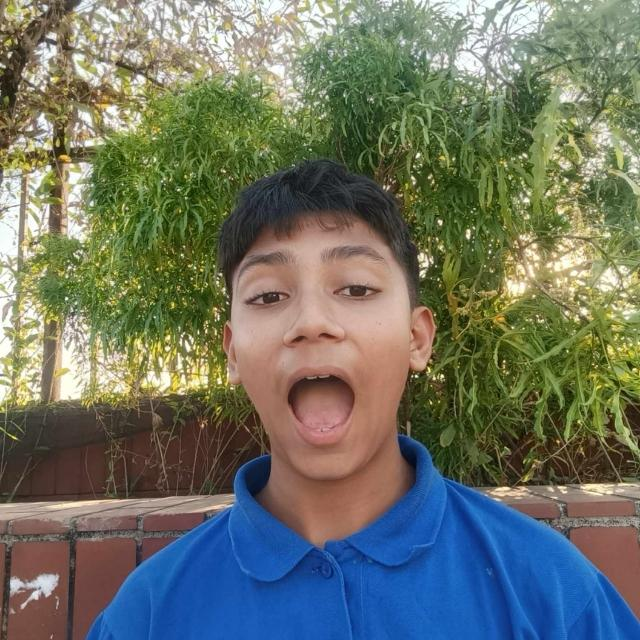Surprised: (208, 165, 454, 507)
